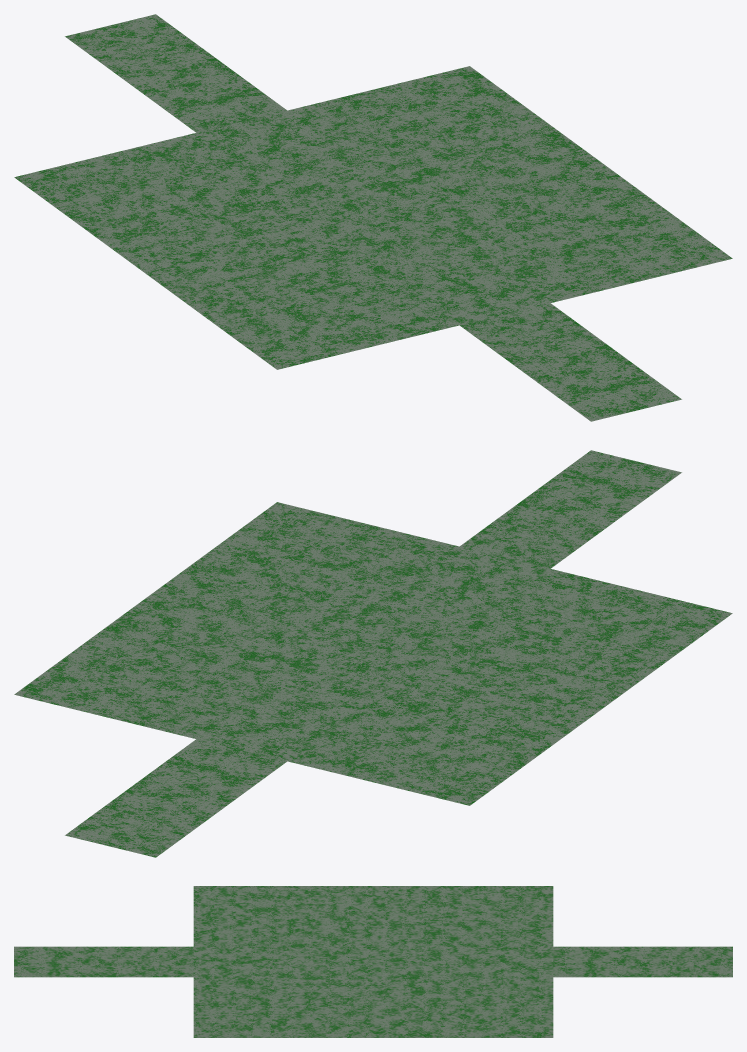
The model's file is NorthSouthFloor.glb.
The picture shows the model from 3 angles, top to bottom: view 1: azimuth 30°, elevation 25°; view 2: azimuth 150°, elevation 25°; view 3: azimuth 270°, elevation 25°; orthographic projection. The views are drawn at different scales.
Parts seen in each view (by area): view 1: Floor; view 2: Floor; view 3: Floor.
Part boxes in pixels (<box>): Floor: <box>14,14,732,421</box>; Floor: <box>14,450,732,857</box>; Floor: <box>14,886,732,1037</box>.
Bounding box in the file's own units: 100 × 0 × 200.
Materials: 1 (1 with a texture image).
